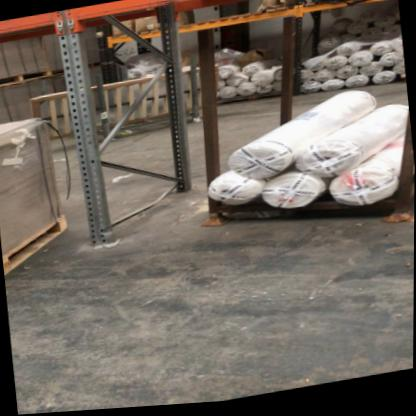vertical_damage: (81, 217, 123, 254)
